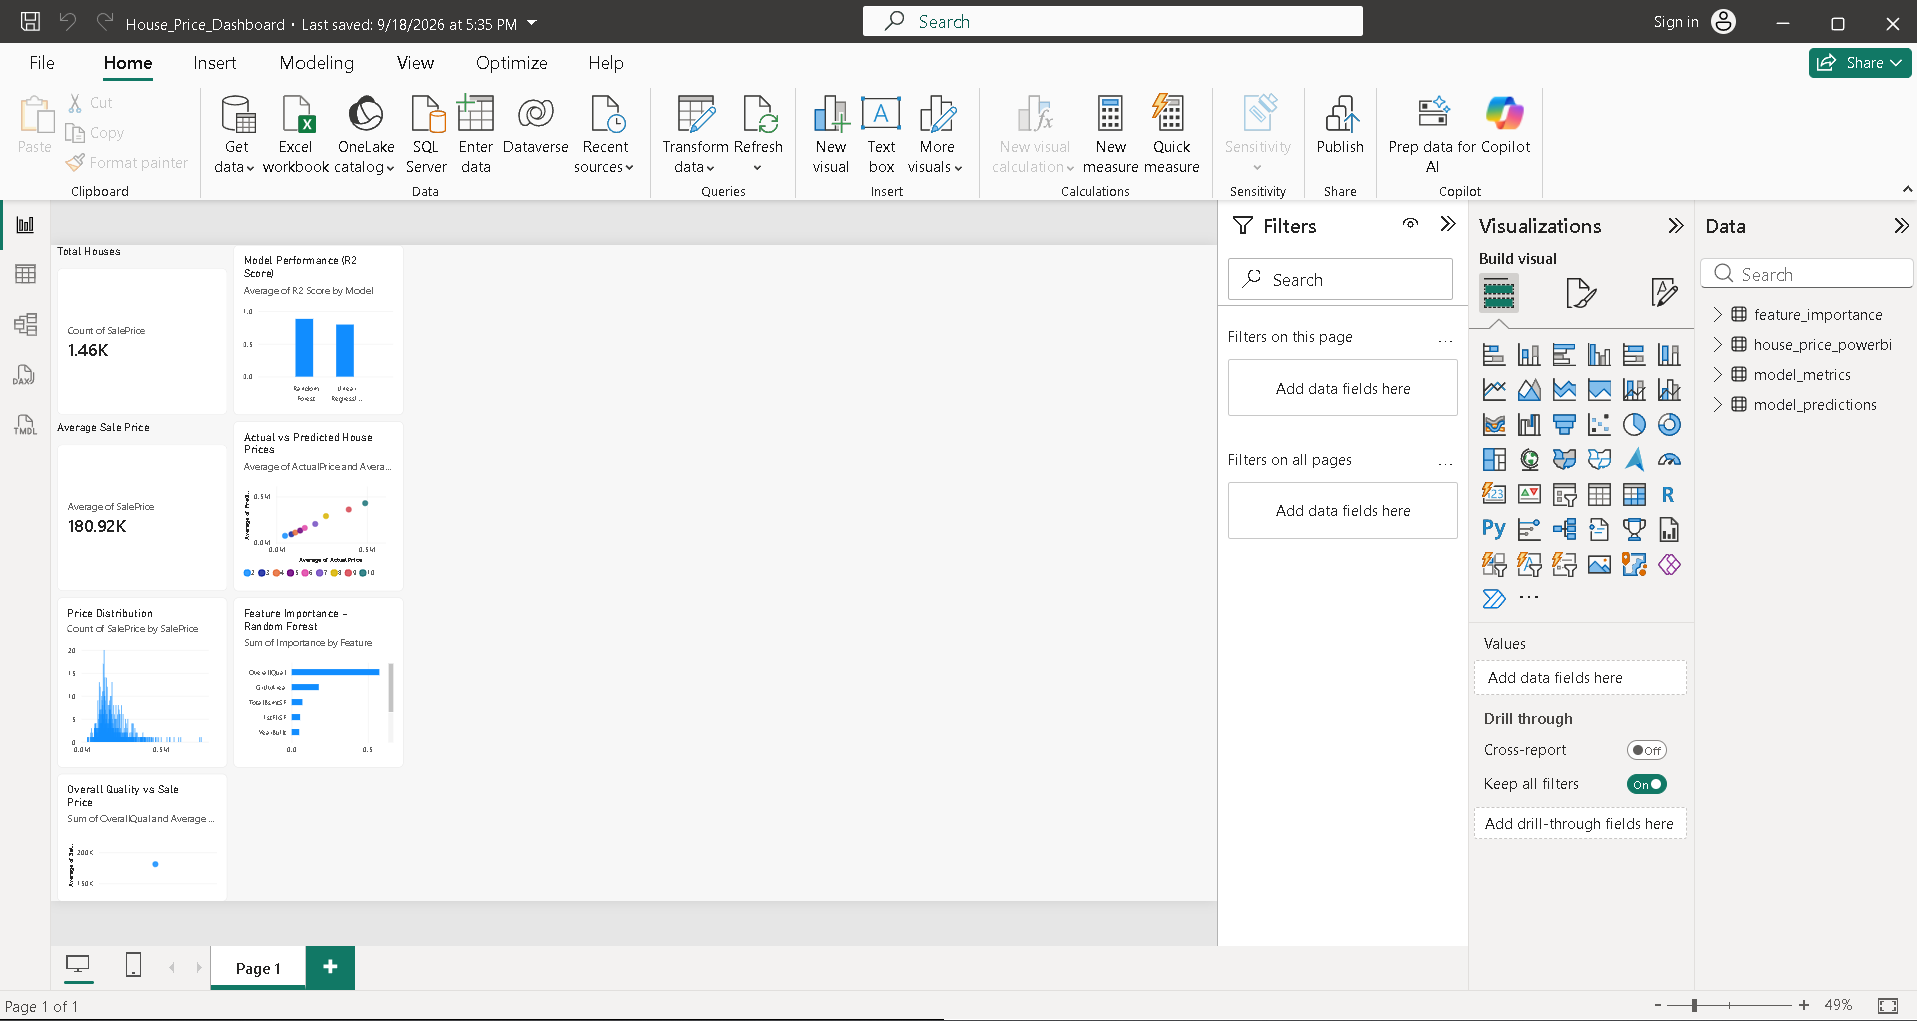

The page's visual inventory and layout, read from the dashboard file:
{"tool":"powerbi","page":{"name":"Page 1","canvas":[1920,1080],"ordinal":0},"visuals":[{"type":"cardVisual","title":"Total Houses","fields":{"Data":["CountNonNull(house_price_powerbi.SalePrice)"]},"box":[10,0,280,280],"z":0},{"type":"cardVisual","title":"Average Sale Price","fields":{"Data":["Avg(house_price_powerbi.SalePrice)"]},"box":[10,290,280,280],"z":1},{"type":"columnChart","title":"Price Distribution","fields":{"Category":["house_price_powerbi.SalePrice"],"Y":["CountNonNull(house_price_powerbi.SalePrice)"]},"box":[10,580,280,280],"z":2},{"type":"scatterChart","title":"Overall Quality vs Sale Price","fields":{"X":["Sum(house_price_powerbi.OverallQual)"],"Y":["Avg(house_price_powerbi.SalePrice)"]},"box":[10,870,280,210],"z":3},{"type":"clusteredColumnChart","title":"Model Performance (R2 Score)","fields":{"Category":["model_metrics.Model"],"Y":["Avg(model_metrics.R2 Score)"]},"box":[300,0,280,280],"z":4},{"type":"scatterChart","title":"Actual vs Predicted House Prices","fields":{"Series":["model_predictions.OverallQual"],"X":["Avg(model_predictions.ActualPrice)"],"Y":["Avg(model_predictions.PredictedPrice)"]},"box":[300,290,280,280],"z":5},{"type":"clusteredBarChart","title":"Feature Importance - Random Forest","fields":{"Category":["feature_importance.Feature"],"Y":["Sum(feature_importance.Importance)"]},"box":[300,580,280,280],"z":6}]}

Visuals, with their boxes on the page's 1920x1080 design canvas (x1, y1, x2, y2). These are canvas units, not pixel positions in the 1917x1021 screenshot, which may show the page scaled, cropped or inside an application window:
"Total Houses" cardVisual: <region>10, 0, 290, 280</region>
"Average Sale Price" cardVisual: <region>10, 290, 290, 570</region>
"Price Distribution" columnChart: <region>10, 580, 290, 860</region>
"Overall Quality vs Sale Price" scatterChart: <region>10, 870, 290, 1080</region>
"Model Performance (R2 Score)" clusteredColumnChart: <region>300, 0, 580, 280</region>
"Actual vs Predicted House Prices" scatterChart: <region>300, 290, 580, 570</region>
"Feature Importance - Random Forest" clusteredBarChart: <region>300, 580, 580, 860</region>
